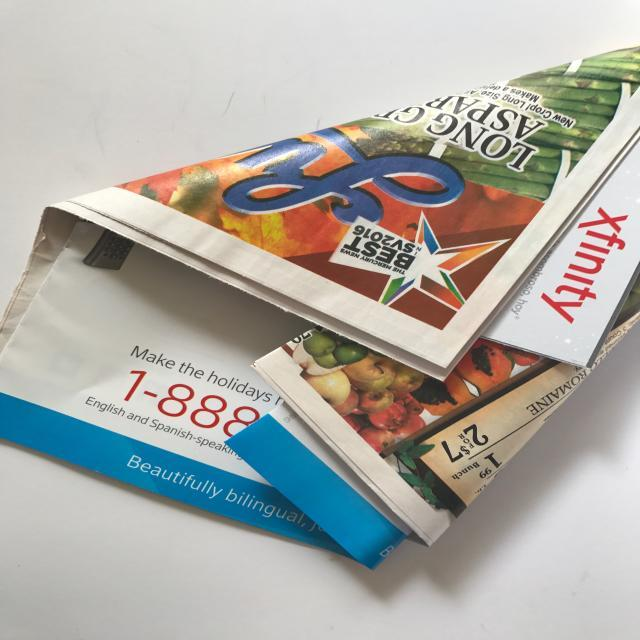paper: (3, 46, 640, 570)
